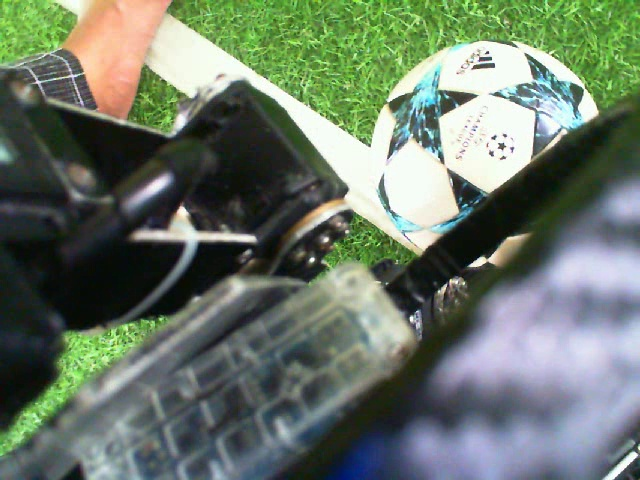ball: (367, 35, 602, 230)
